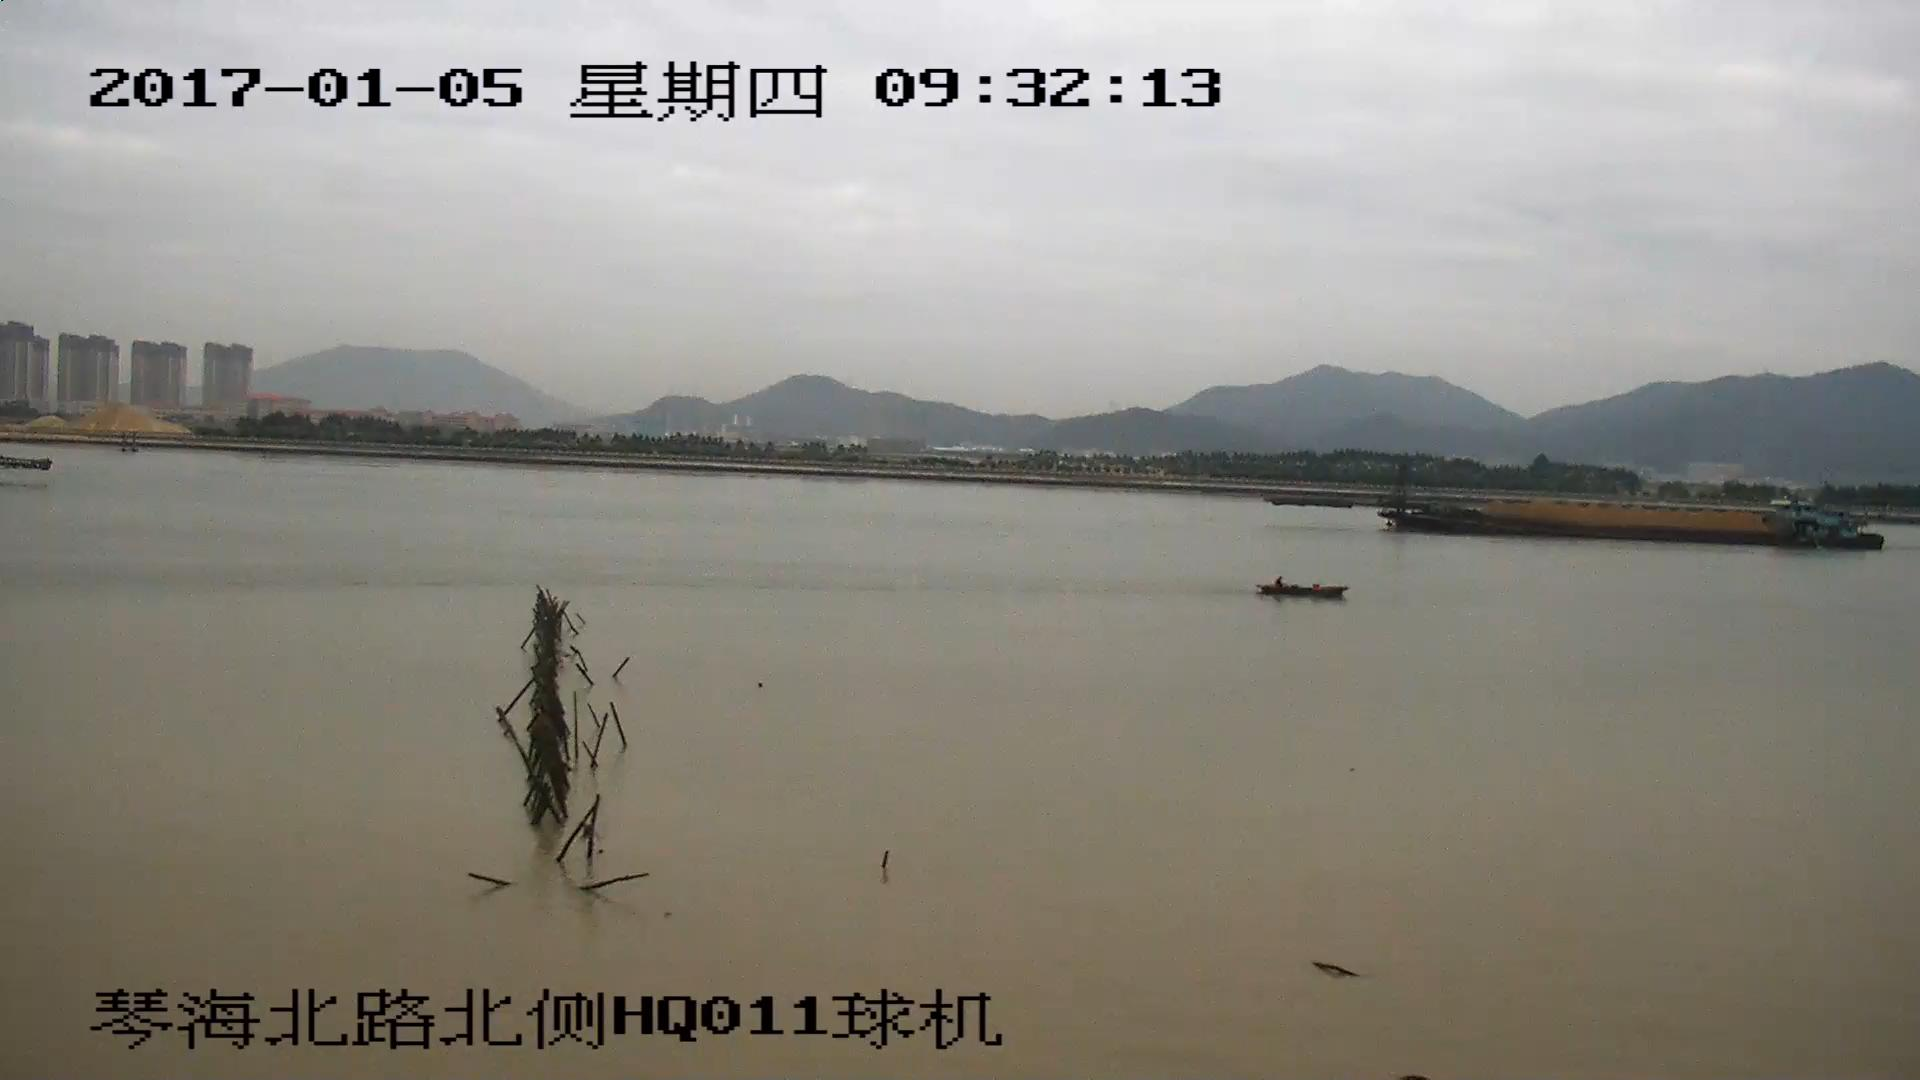fishing boat: (1258, 574, 1354, 602)
ore carrier: (1274, 468, 1886, 548)
